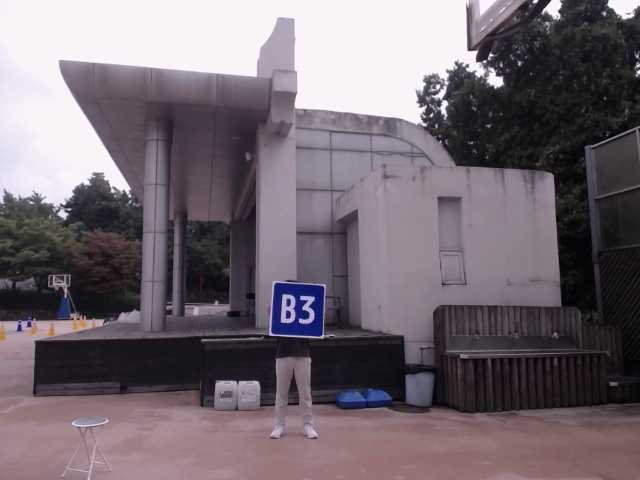delivery_b3: (272, 282, 326, 339)
